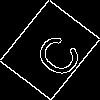C: (25, 25, 85, 82)
